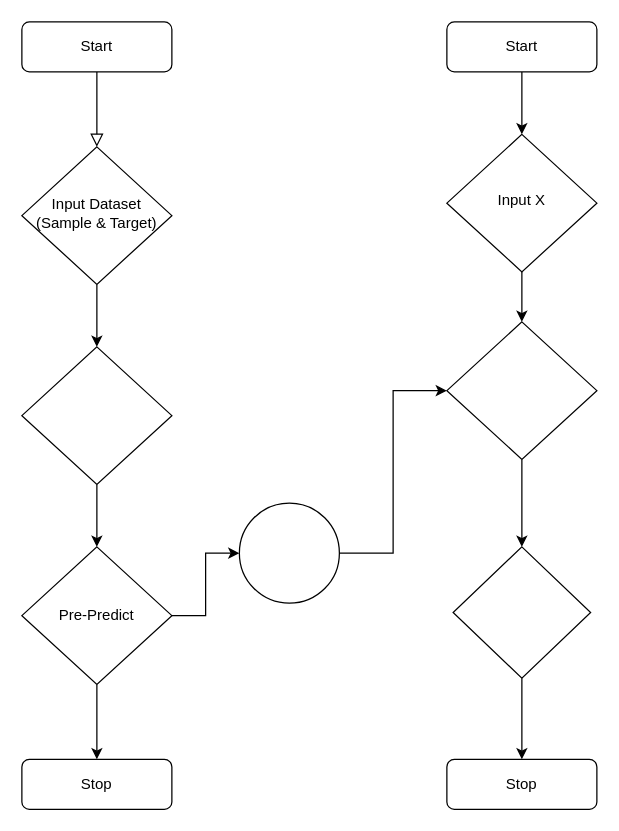
The diagram is 619 pixels wide and 831 high, and some of its shapes have lost their labels. The centre of each missing label's shape, as x and y in pixels:
Output: (x=521, y=612)
Predict: (x=521, y=390)
Scored Dataset: (x=288, y=552)
Training Dataset: (x=96, y=415)
